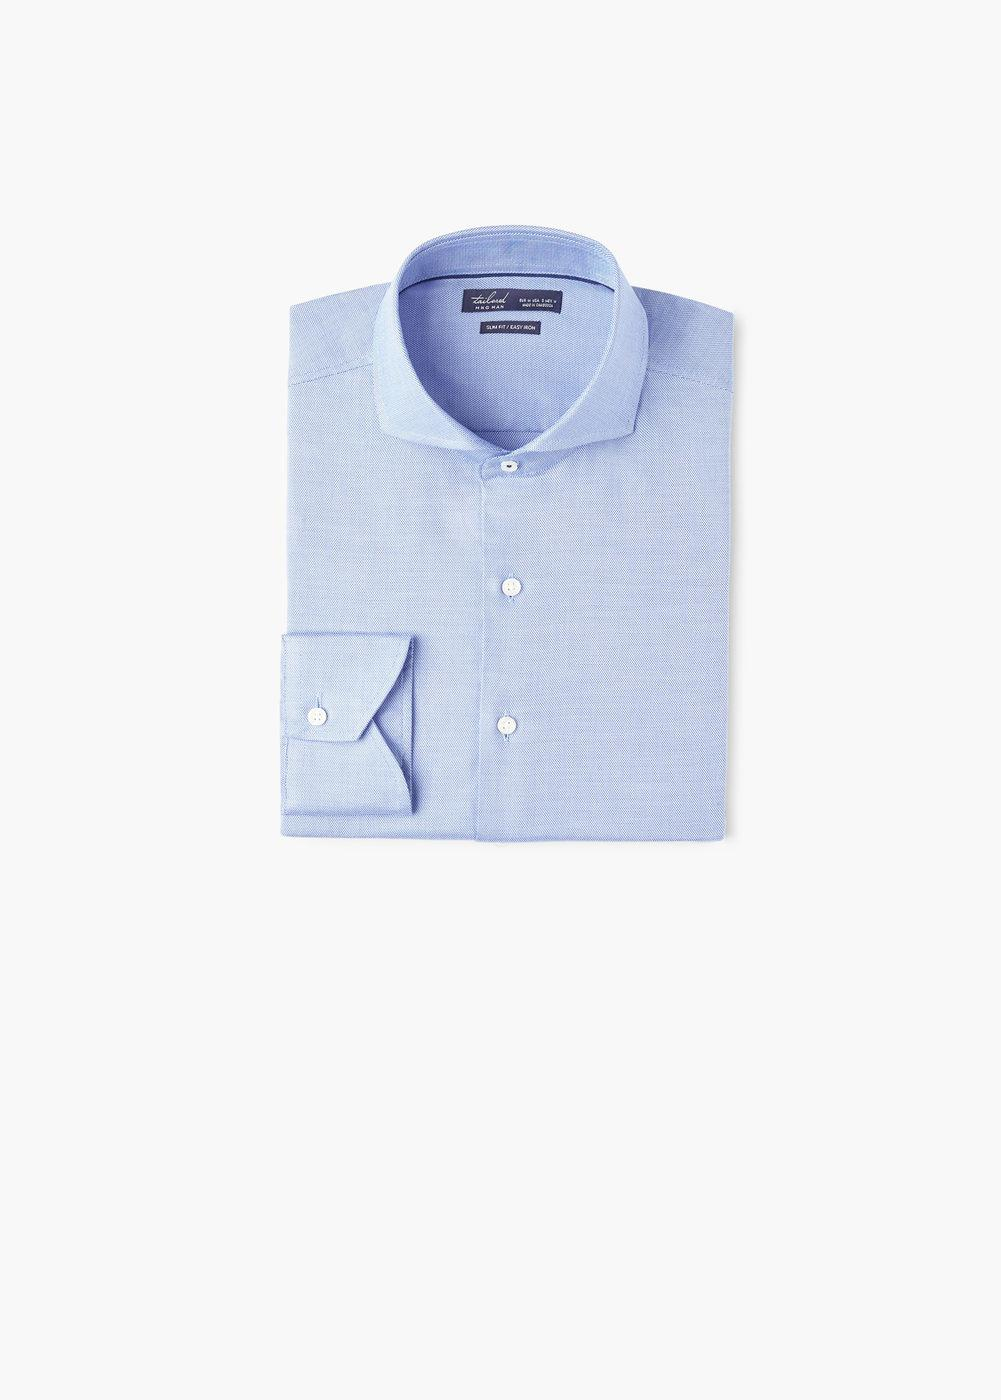teeshirt: (272, 218, 747, 852)
